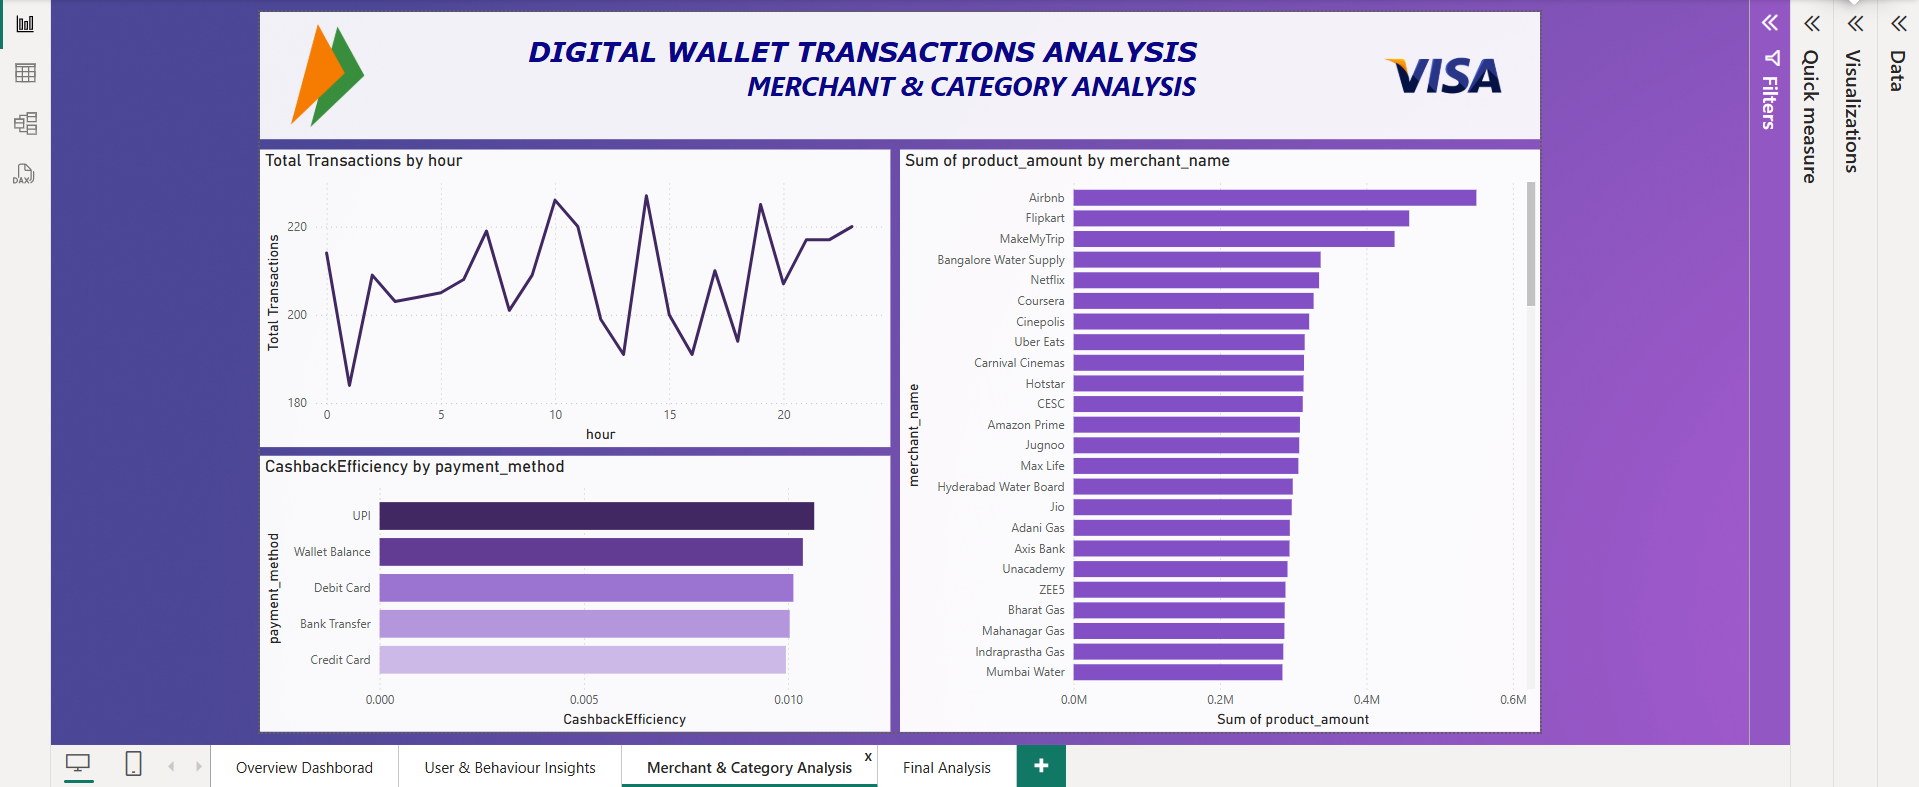

Layout of this report page (visuals, bound fields, positions):
{"tool":"powerbi","page":{"name":"Merchant & Category Analysis","canvas":[1280,720],"ordinal":2},"visuals":[{"type":"barChart","fields":{"Category":["Transactions.merchant_name"],"Y":["Sum(Transactions.product_amount)"]},"box":[640,137.5,640,582.5],"z":0},{"type":"barChart","fields":{"Category":["Transactions.payment_method"],"Y":["Transactions.CashbackEfficiency"]},"box":[0,443.8,630,276.2],"z":1000},{"type":"lineChart","fields":{"Category":["Transactions.hour"],"Y":["Transactions.Total Transactions"]},"box":[0,137.5,630,297.5],"z":2000},{"type":"textbox","box":[0,0,1280,127.5],"z":3000},{"type":"image","box":[0,0,130,127.5],"z":4000},{"type":"image","box":[1092.5,0,180,127.5],"z":5000}]}

Visuals, with their boxes on the page's 1280x720 design canvas (x1, y1, x2, y2). These are canvas units, not pixel positions in the 1919x787 screenshot, which may show the page scaled, cropped or inside an application window:
barChart - Transactions.merchant_name x Sum(Transactions.product_amount): [640, 138, 1280, 720]
barChart - Transactions.payment_method x Transactions.CashbackEfficiency: [0, 444, 630, 720]
lineChart - Transactions.hour x Transactions.Total Transactions: [0, 138, 630, 435]
textbox: [0, 0, 1280, 128]
image: [0, 0, 130, 128]
image: [1092, 0, 1272, 128]
